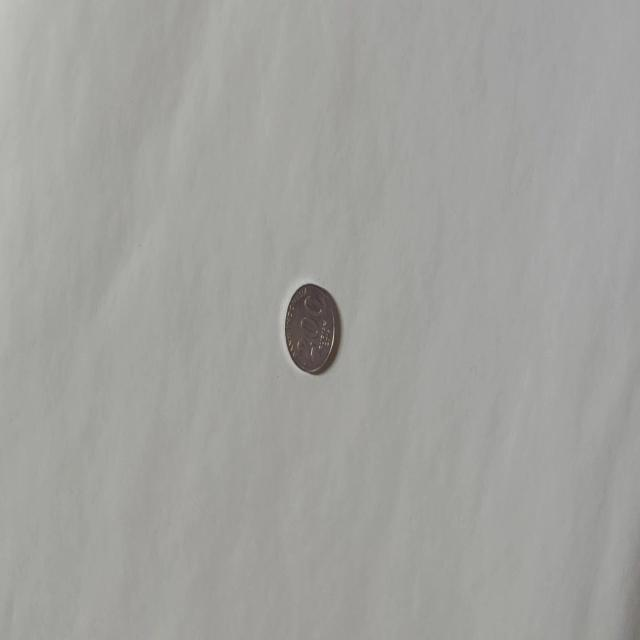dua ratus rupiah: (284, 280, 336, 374)
